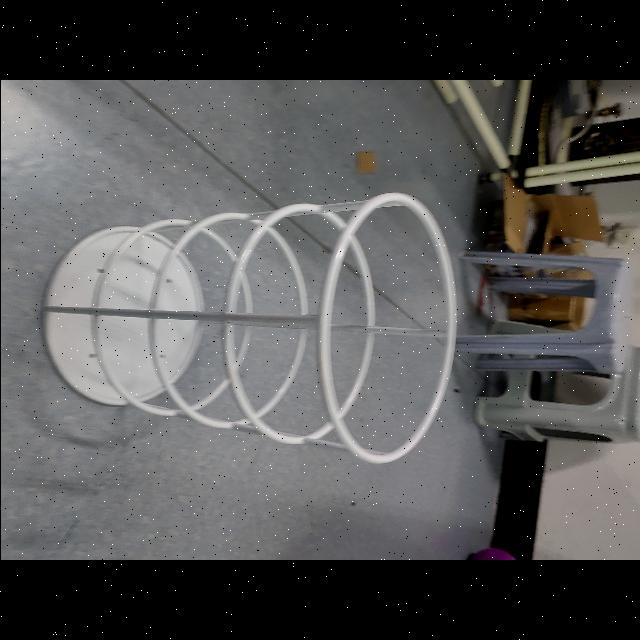S: (35, 187, 459, 468)
